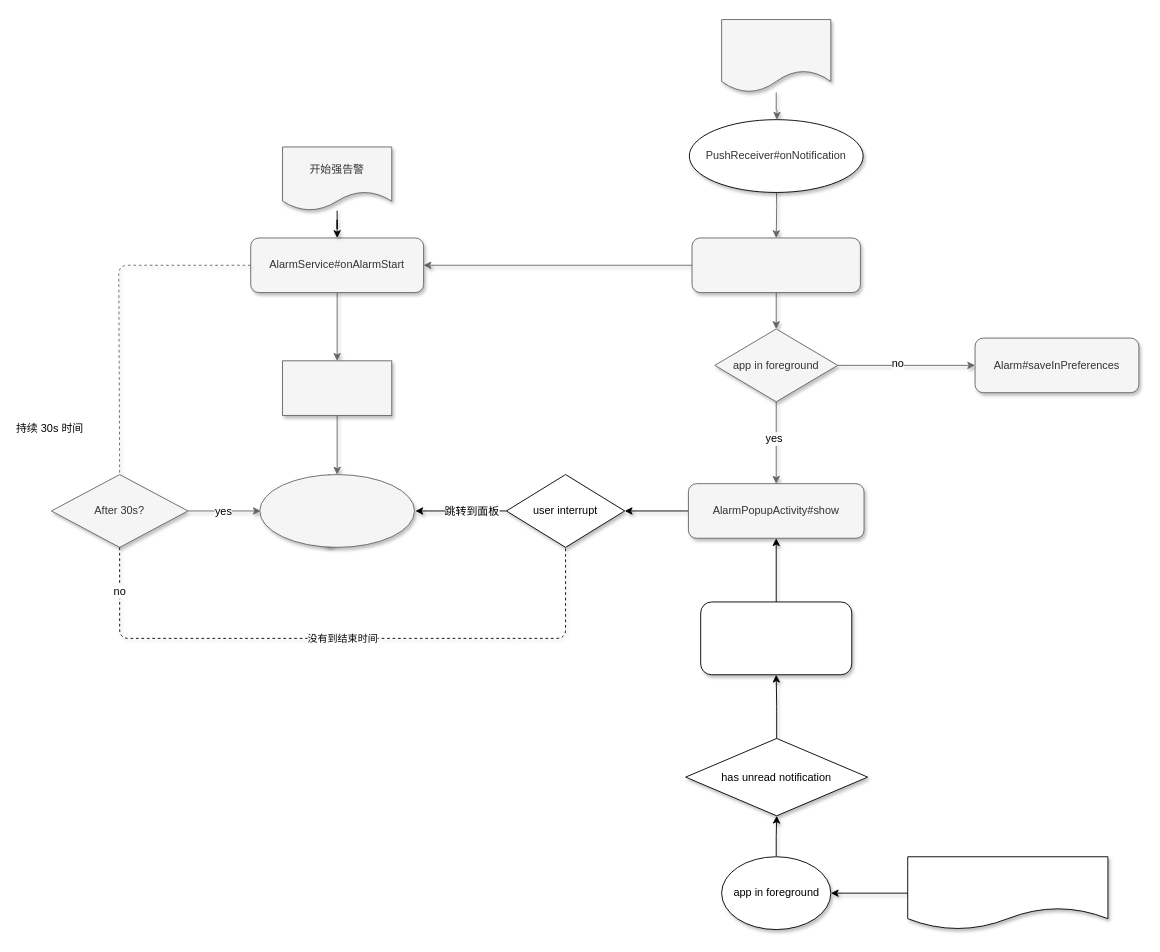
Some shapes in this 1160 by 952 pixel diagram are drawn without their labels. The shapes that lost their labels are listed below. From the top down, each one's centre as x and y in pixels, then its label:
[776,57]: 收到强告警推送消息
[777,266]: AlarmService#starter
[337,389]: vibrate/play audio
[337,512]: AlarmService#onAlarmStop
[776,639]: clear saved notification
[1008,894]: 通过ILOPApplication#onEnterForeground接收 LifecycleEvent
